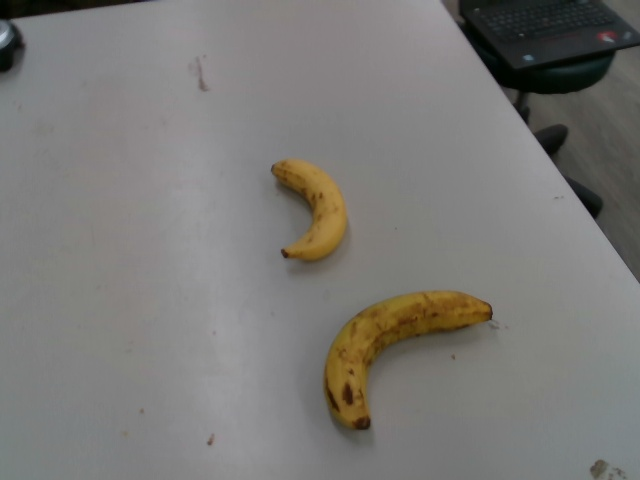banana: (324, 290, 494, 429), (266, 157, 350, 264)
